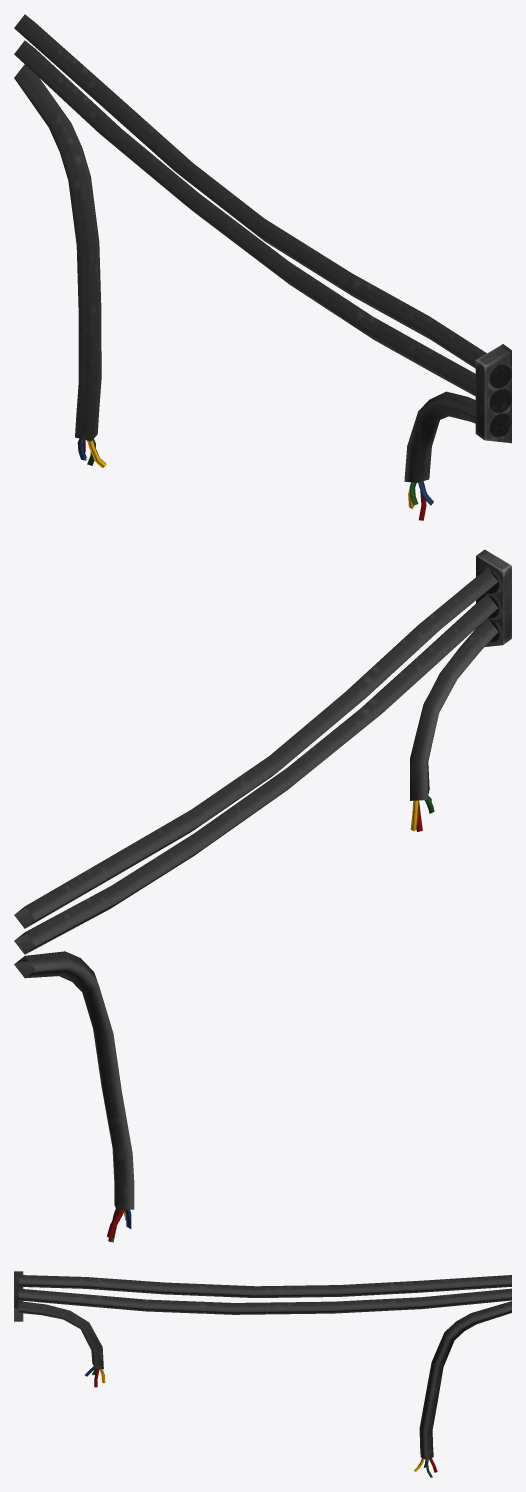
File: cableWall01_D.fbx
3 renders of one model, top to bottom at view 1: azimuth 30°, elevation 25°; view 2: azimuth 150°, elevation 25°; view 3: azimuth 270°, elevation 25°, orthographic. The views are drawn at different scales.
Visible parts, largest first — view 1: cableWall01_D; view 2: cableWall01_D; view 3: cableWall01_D.
Part boxes in pixels (x1=…): cableWall01_D: x1=14, y1=14, x2=511, y2=520; cableWall01_D: x1=14, y1=549, x2=511, y2=1242; cableWall01_D: x1=14, y1=1271, x2=511, y2=1477.
Size of the model in its own units: 15.39 by 141 by 303.
